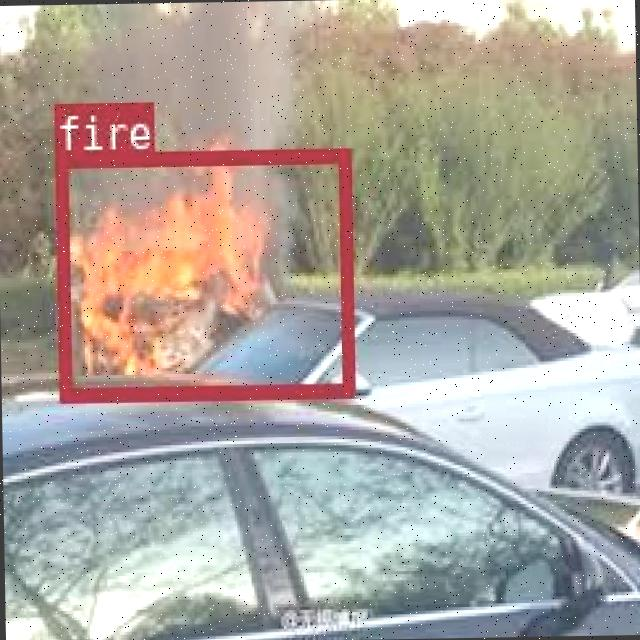fire: (54, 146, 351, 400)
